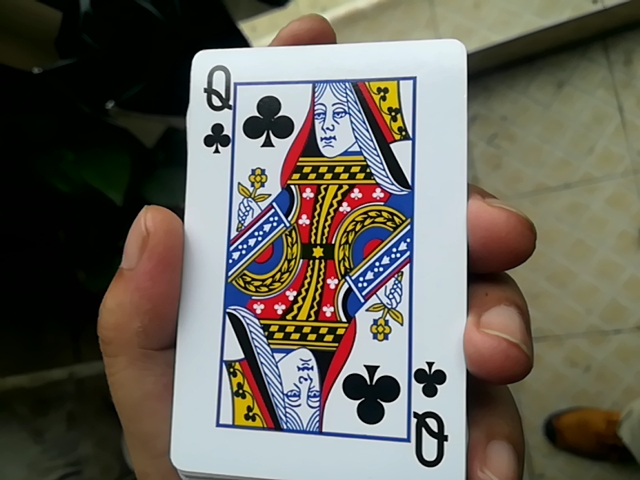mh q: (164, 30, 472, 471)
